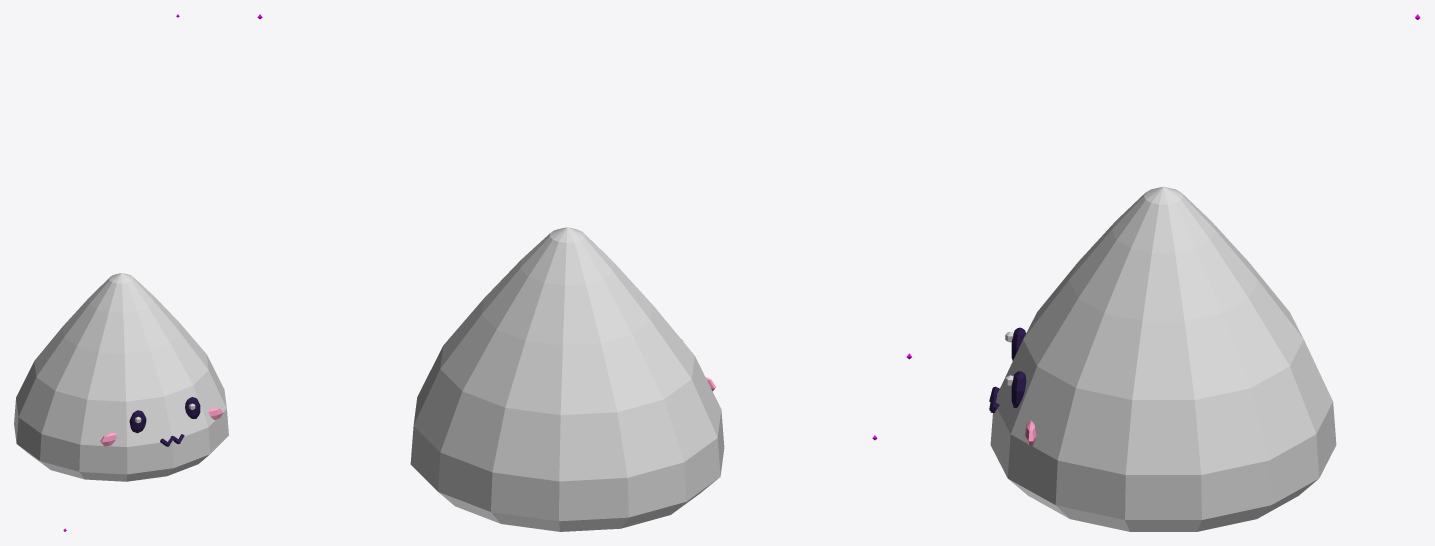
The model's file is body_blob.fbx.
3 views of the same model, side by side, from view 1: azimuth 30°, elevation 25°; view 2: azimuth 150°, elevation 25°; view 3: azimuth 270°, elevation 25° (orthographic). The views are drawn at different scales.
Parts seen in each view (by area): view 1: Body, Eyes, Blush; view 2: Body; view 3: Body, Eyes.
Boxes of the visible parts, box(x1,y1,x2,y2) form: Body: box(14, 273, 228, 481); Eyes: box(129, 397, 200, 433); Blush: box(100, 408, 223, 446); Body: box(410, 227, 724, 531); Body: box(990, 186, 1336, 531); Eyes: box(1011, 327, 1026, 407).
Size of the model in its own units: 2.99 by 3.6 by 2.99.
